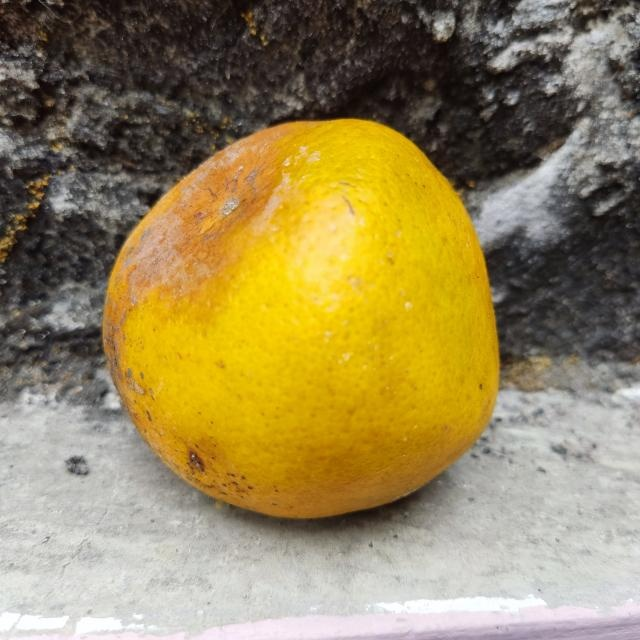agrume: (103, 117, 503, 518)
